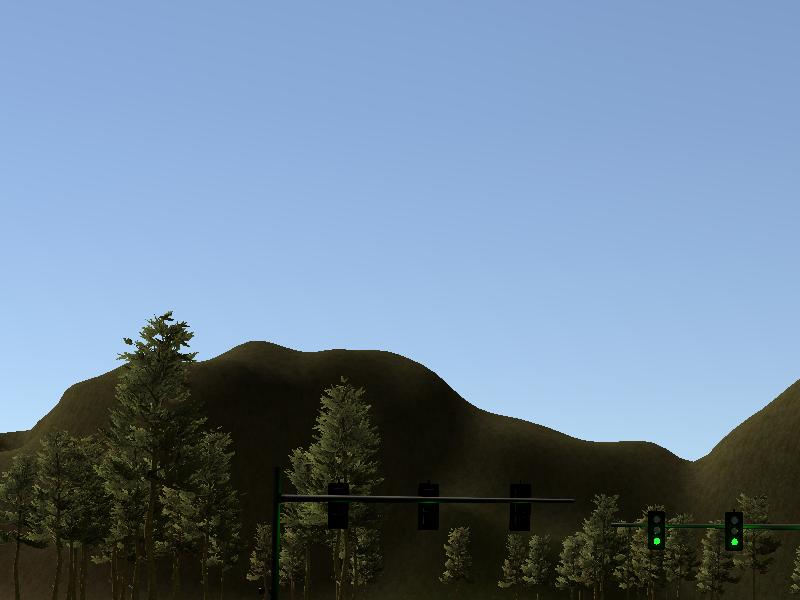Green: (725, 512, 743, 550), (647, 512, 665, 549)
